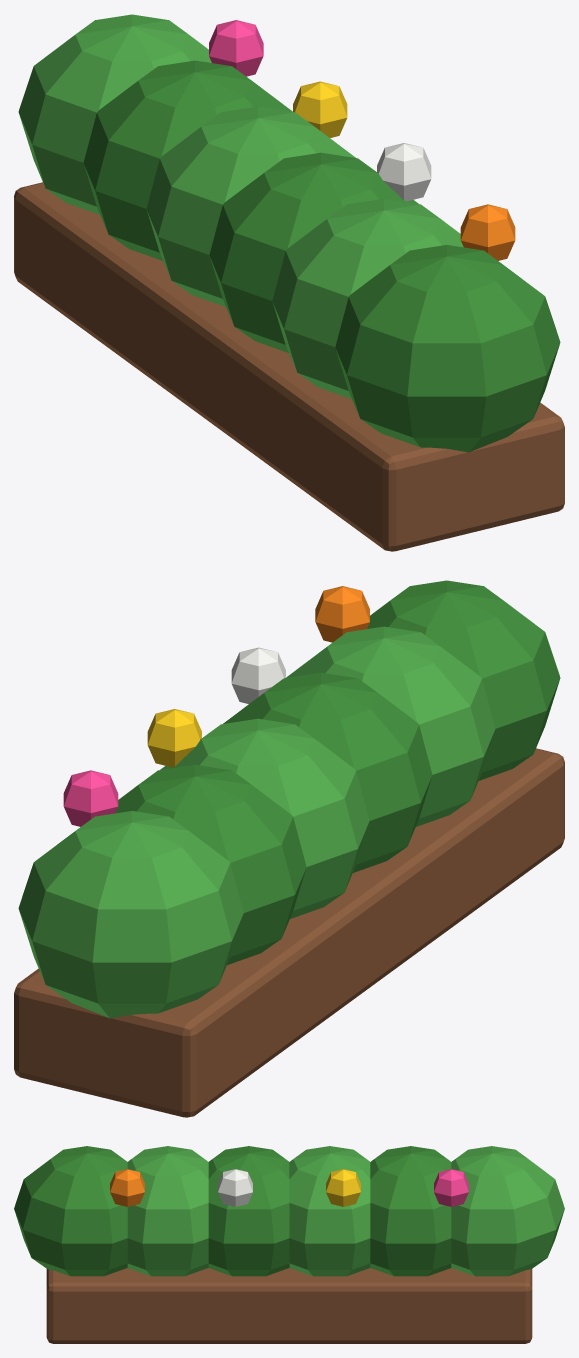
File: hedge.glb
The picture shows the model from 3 angles, top to bottom: view 1: azimuth 30°, elevation 25°; view 2: azimuth 150°, elevation 25°; view 3: azimuth 270°, elevation 25°; orthographic projection. The views are drawn at different scales.
Parts seen in each view (by area): view 1: hedge; view 2: hedge; view 3: hedge.
Part boxes in pixels (<box>): hedge: <box>14,14,564,551</box>; hedge: <box>14,580,564,1117</box>; hedge: <box>14,1146,564,1343</box>.
Size of the model in its own units: 1.1 by 1.4 by 4.08.
